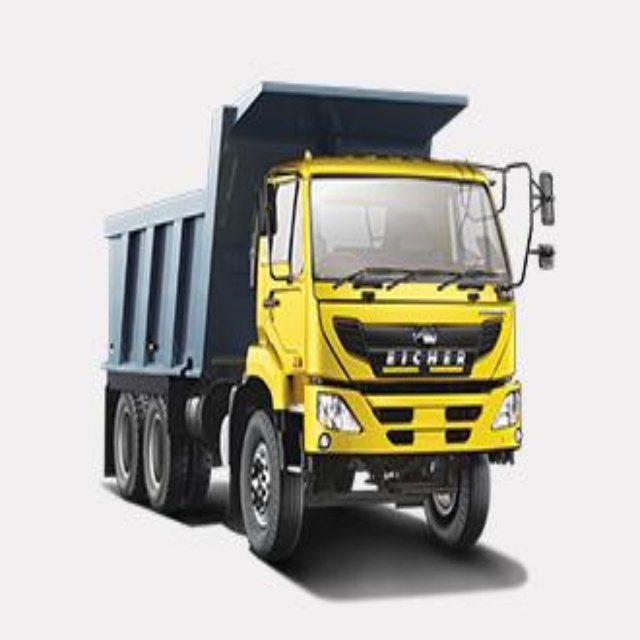Truck: (101, 79, 555, 561)
